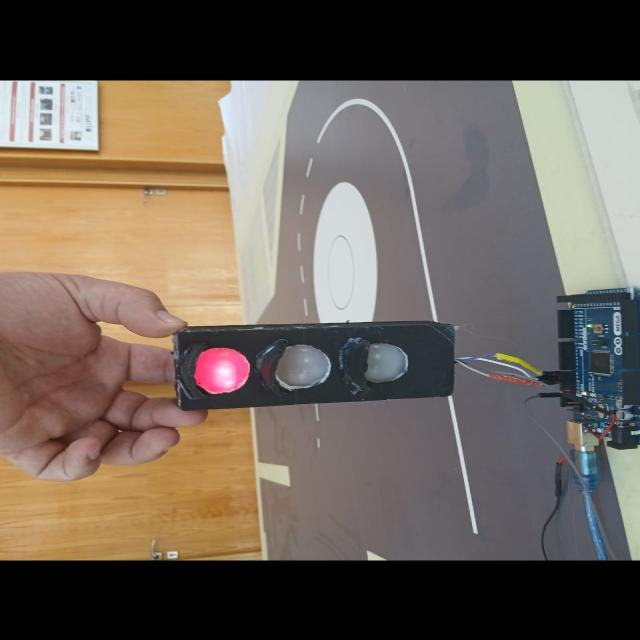red: (193, 348, 250, 394)
trafic lights: (174, 321, 455, 410)
